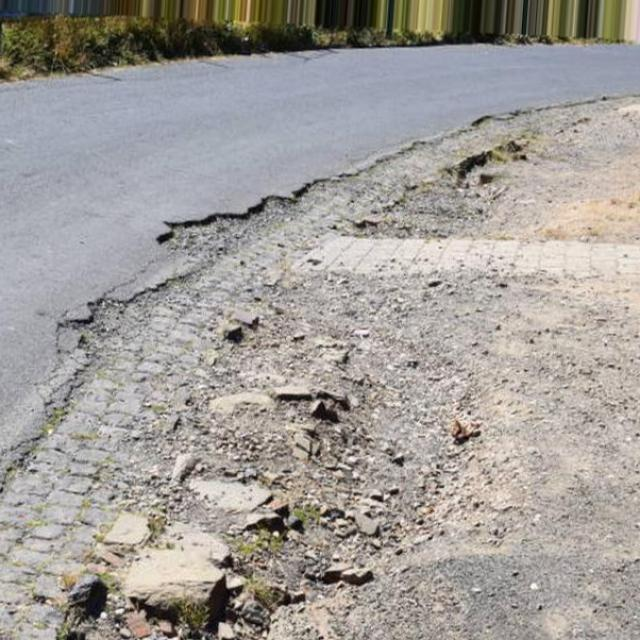Pinggir: (0, 89, 600, 640)
